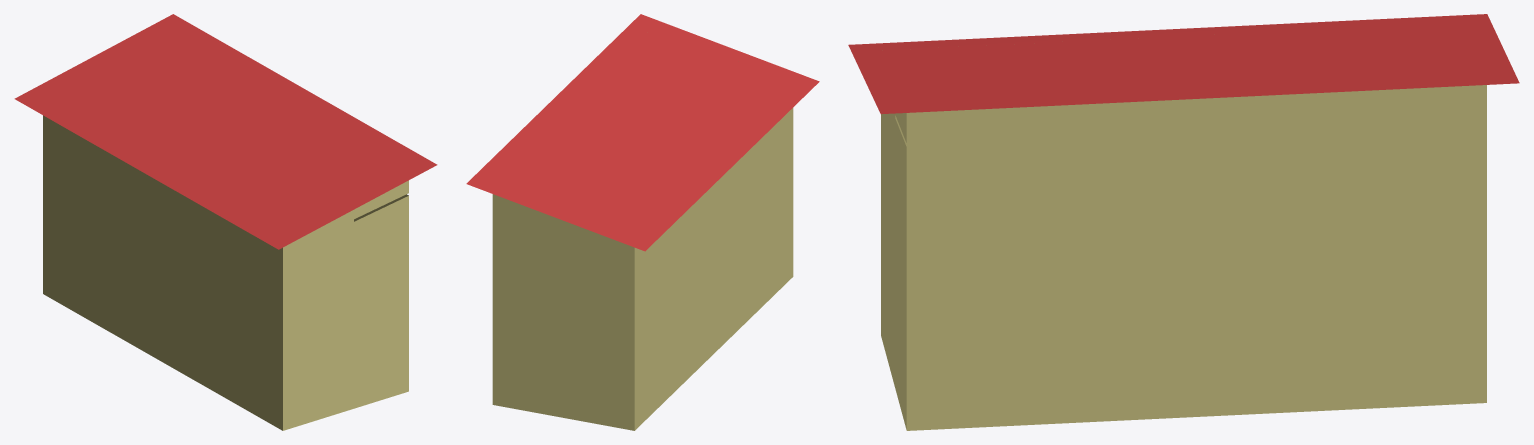
The picture shows the model from 3 angles, left to right: view 1: azimuth 30°, elevation 25°; view 2: azimuth 150°, elevation 25°; view 3: azimuth 270°, elevation 25°; orthographic projection. The views are drawn at different scales.
Size of the model in its own units: 9.06 by 17.01 by 9.24.
